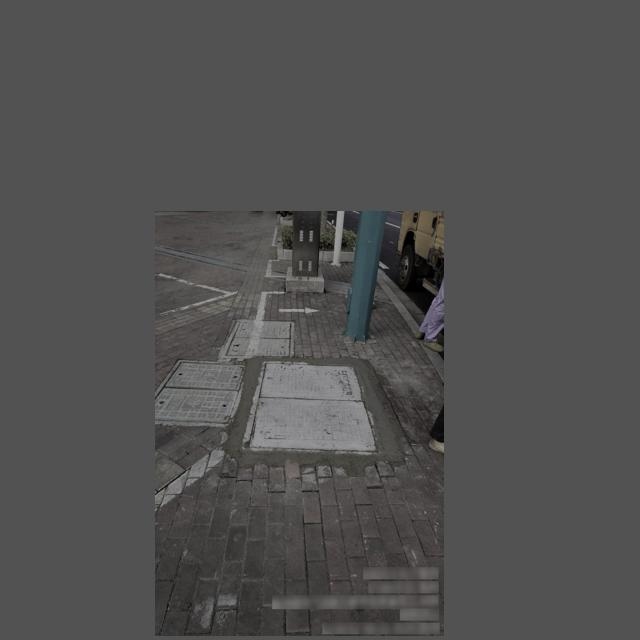good: (241, 360, 386, 455), (155, 358, 249, 427), (220, 318, 296, 360)
